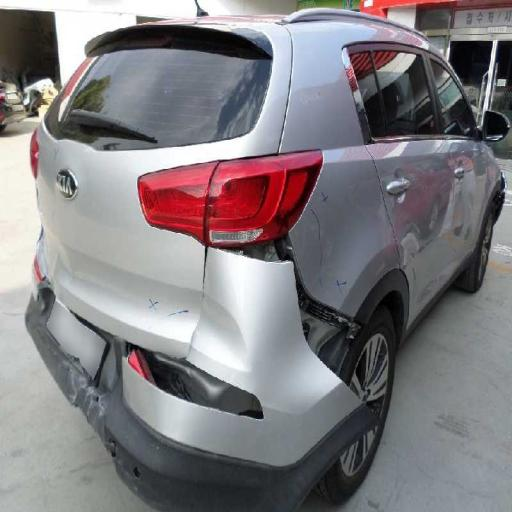broken: (194, 145, 408, 419), (28, 242, 160, 448)
scratch: (292, 177, 356, 308)
